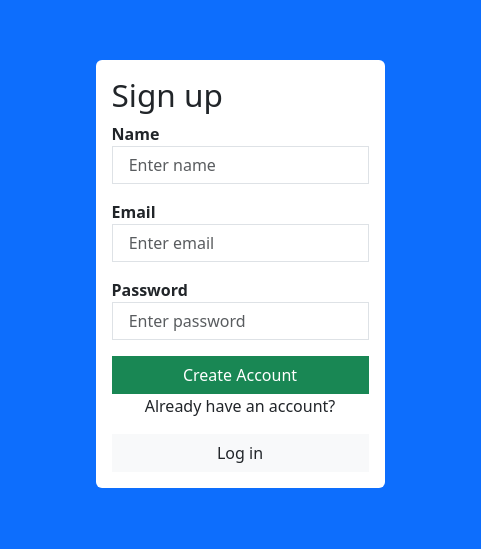
Test case: Signup Component › validates user signup with valid data
The image size is (481, 549).
// Fill out the form with valid data
Type "John Doe" into the field with placeholder "Enter name" at (240, 165), box [112,146,368,184]
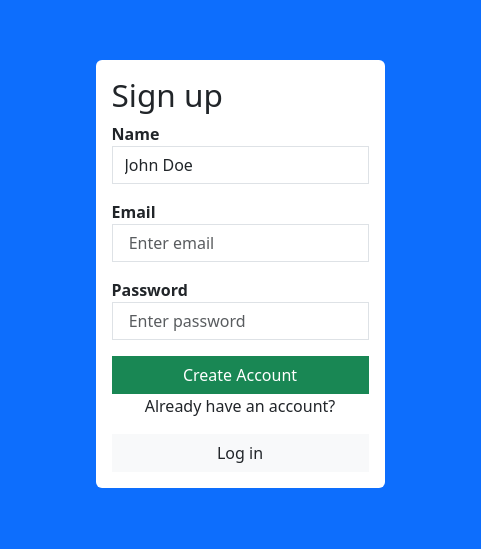
Type "john.doe@example.com" into the field with placeholder "Enter email" at (240, 243), box [112,224,368,262]
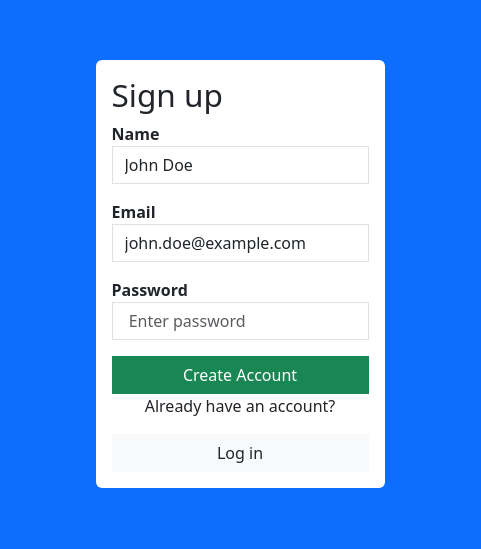
Type "password123" into the password field with placeholder "Enter password" at (240, 321), box [112,302,368,340]
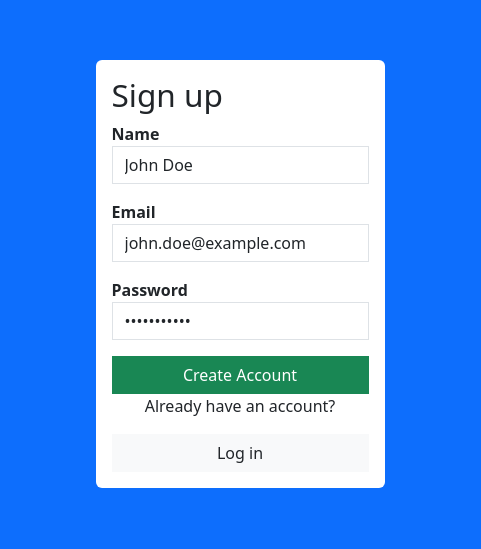
Submit the form from the button "Create Account", box [112,356,368,394]
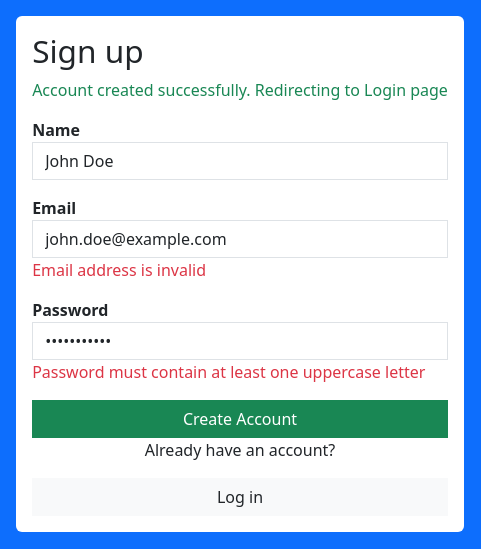
Now the text "Account created successfully. Redirecting to Login page" is shown, box [32,78,448,102]
